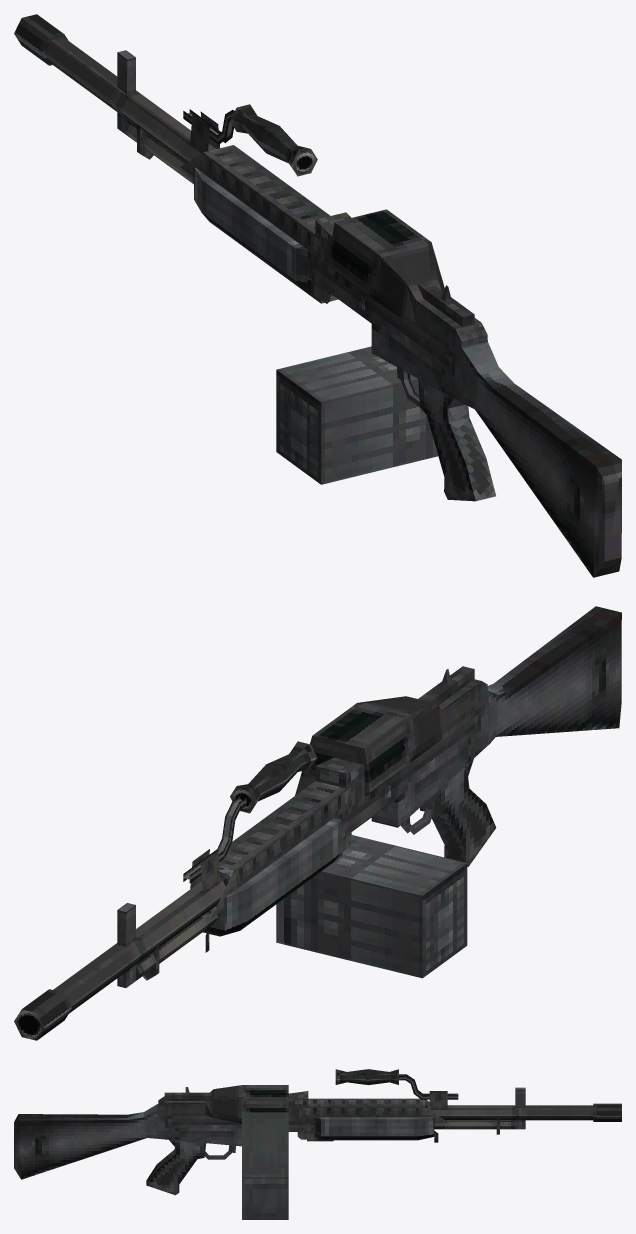
Rendered from recovered_gun_stoner_m63a.glb.
3 renders of one model, top to bottom at view 1: azimuth 30°, elevation 25°; view 2: azimuth 150°, elevation 25°; view 3: azimuth 270°, elevation 25°, orthographic. The views are drawn at different scales.
Visible parts, largest first — view 1: Gun_40c1a1ec333b; view 2: Gun_40c1a1ec333b, Gun_379f7b5fa02f; view 3: Gun_40c1a1ec333b.
Part boxes in pixels (x1,y1,x2,y2): Gun_40c1a1ec333b: [14, 14, 621, 577]; Gun_40c1a1ec333b: [22, 606, 621, 1040]; Gun_379f7b5fa02f: [14, 786, 256, 1040]; Gun_40c1a1ec333b: [14, 1069, 621, 1219].
Size of the model in its own units: 0.1673 by 0.274 by 1.16.
Materials: 2 (2 with a texture image).
